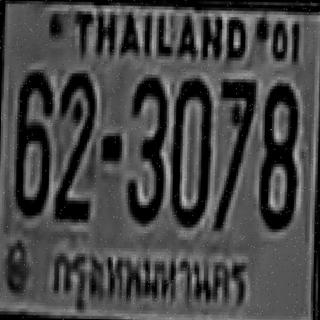N00: (170, 76, 210, 226)
N02: (52, 88, 94, 219), (57, 70, 96, 201)
N03: (125, 74, 165, 220)
N06: (12, 69, 52, 212)
N07: (214, 75, 254, 228)
N08: (256, 81, 296, 228)
P04: (47, 240, 255, 312)
